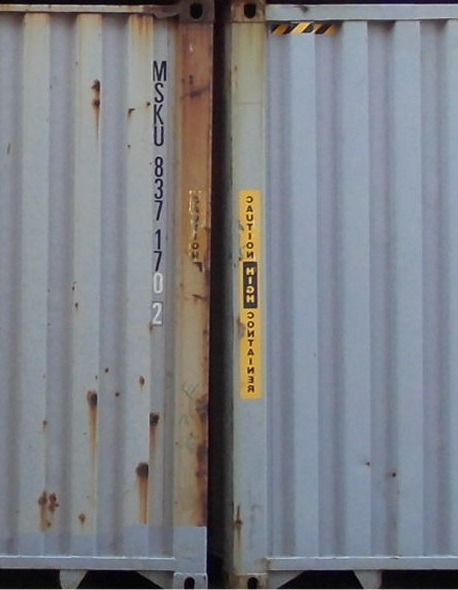container_no_door: (226, 1, 458, 584), (1, 1, 217, 589)
